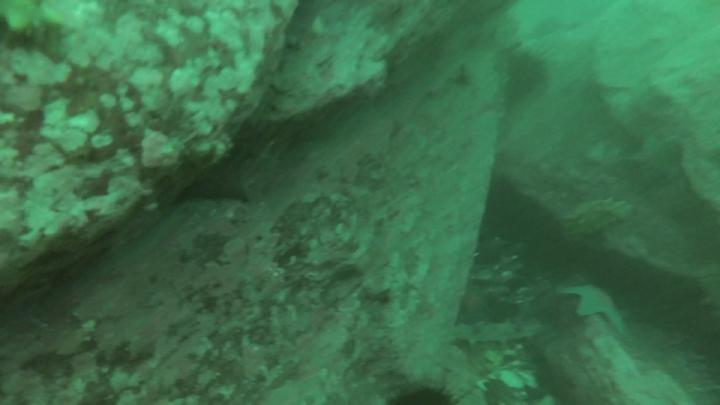echinus: (381, 372, 475, 405), (504, 46, 551, 106)
holothurian: (550, 194, 636, 245), (450, 319, 545, 349), (695, 265, 720, 337)
starfish: (558, 278, 629, 334)
